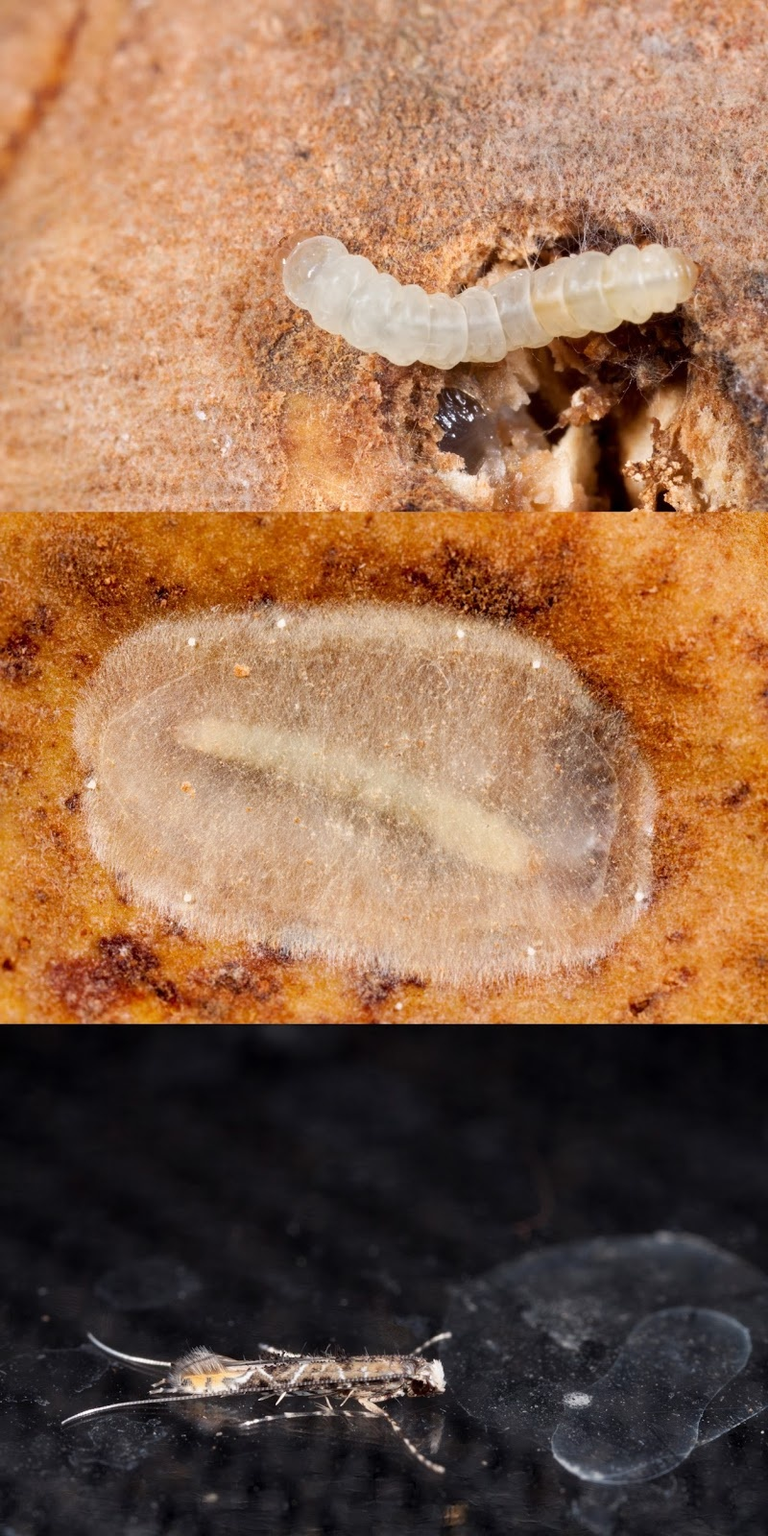Stink_Bug: (92, 628, 600, 935), (277, 217, 687, 368), (110, 1333, 444, 1455)
